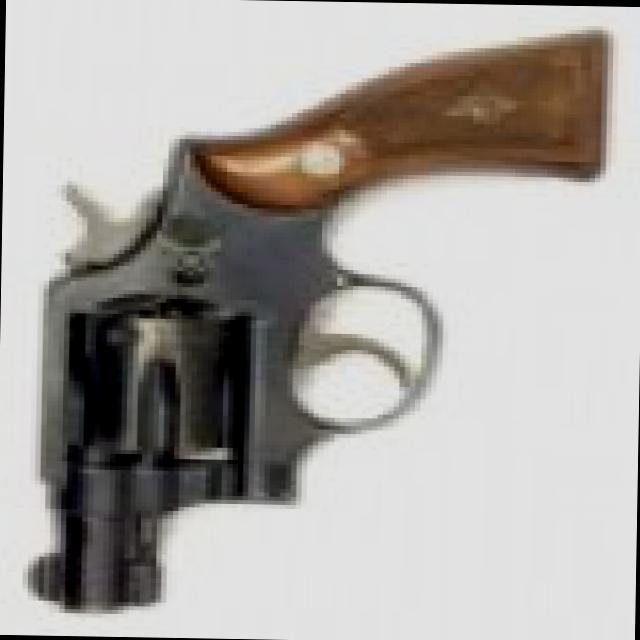handgun: (26, 23, 602, 621)
